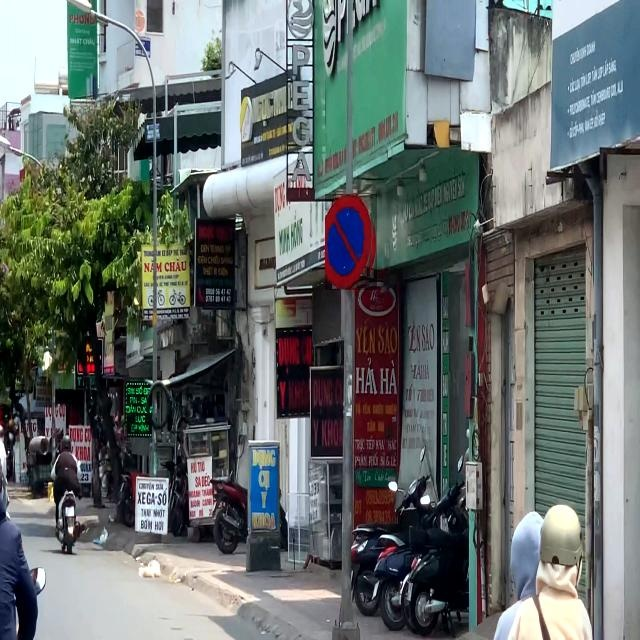bien_cam: (326, 194, 378, 290)
